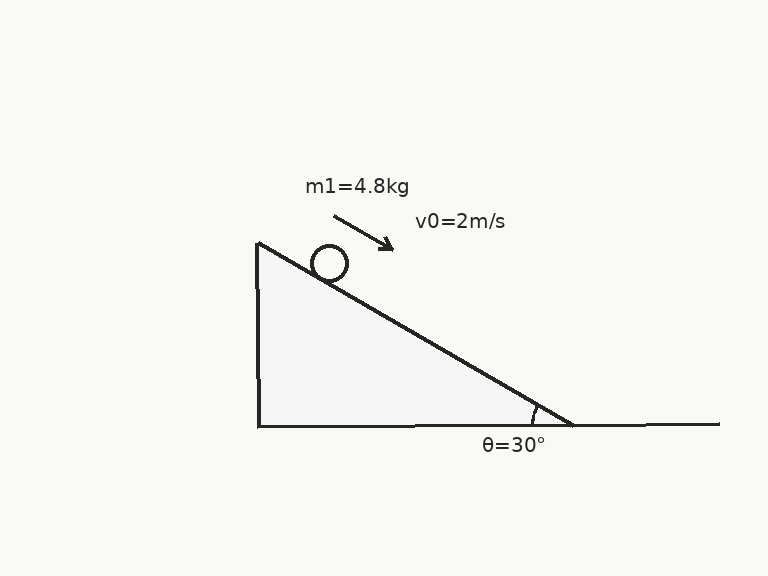ball: (308, 242, 350, 284)
ramp: (255, 241, 574, 427)
